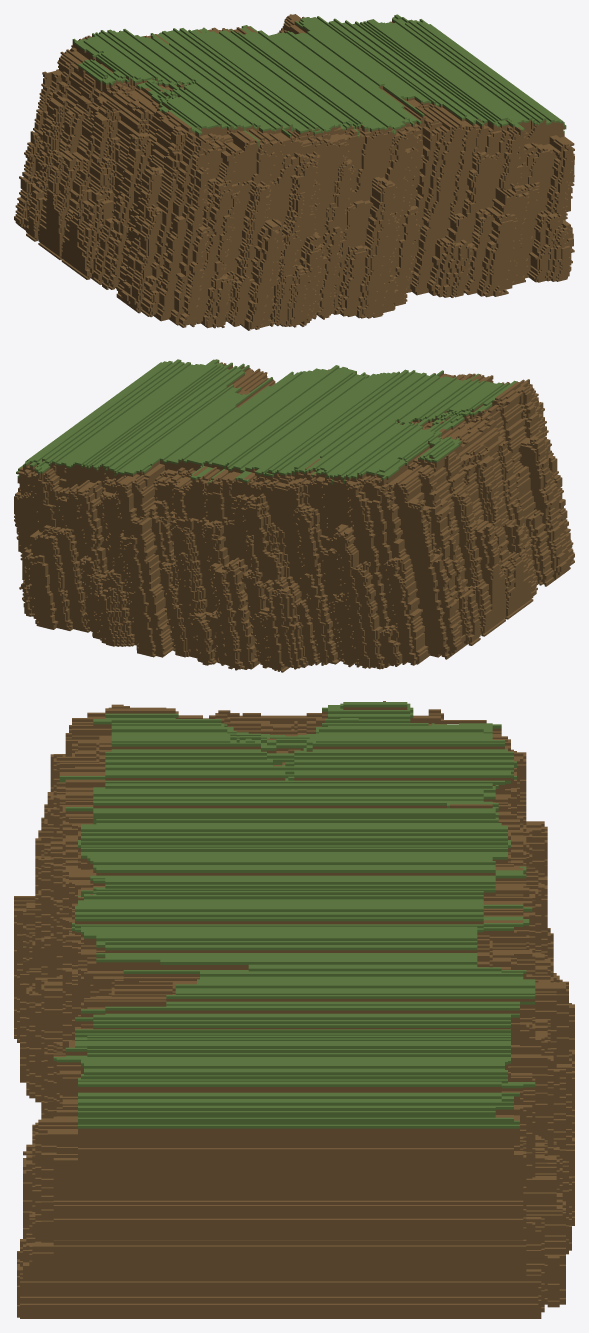
Rendered from forest1.2-183.obj.
The picture shows the model from 3 angles, top to bottom: view 1: azimuth 30°, elevation 25°; view 2: azimuth 150°, elevation 25°; view 3: azimuth 270°, elevation 25°; orthographic projection. The views are drawn at different scales.
Bounding box in the file's own units: 25.4 × 12.3 × 18.4.
Materials: 1 (1 with a texture image).
